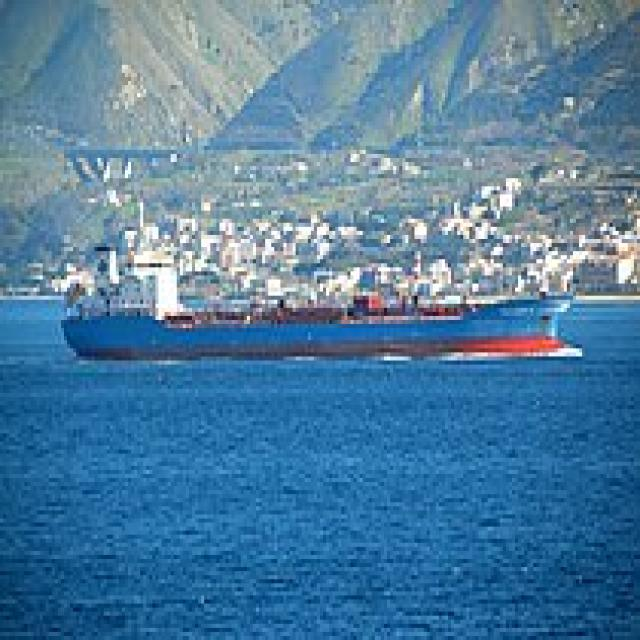Tanker: (58, 195, 570, 352)
